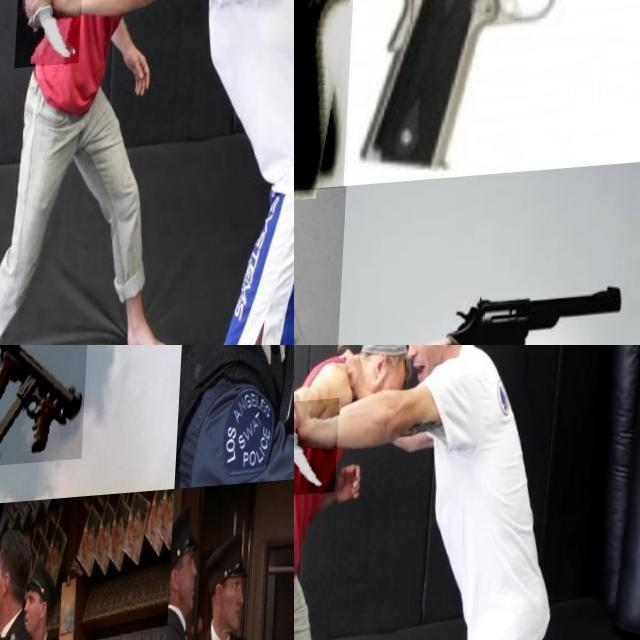-: (17, 0, 85, 71), (294, 402, 340, 502)
gun-knife-thesis - v11 Yolov5 augmented: (359, 0, 640, 178), (294, 0, 452, 213), (294, 213, 410, 345), (414, 292, 626, 345), (0, 345, 90, 469), (262, 549, 294, 640), (0, 549, 14, 626)
